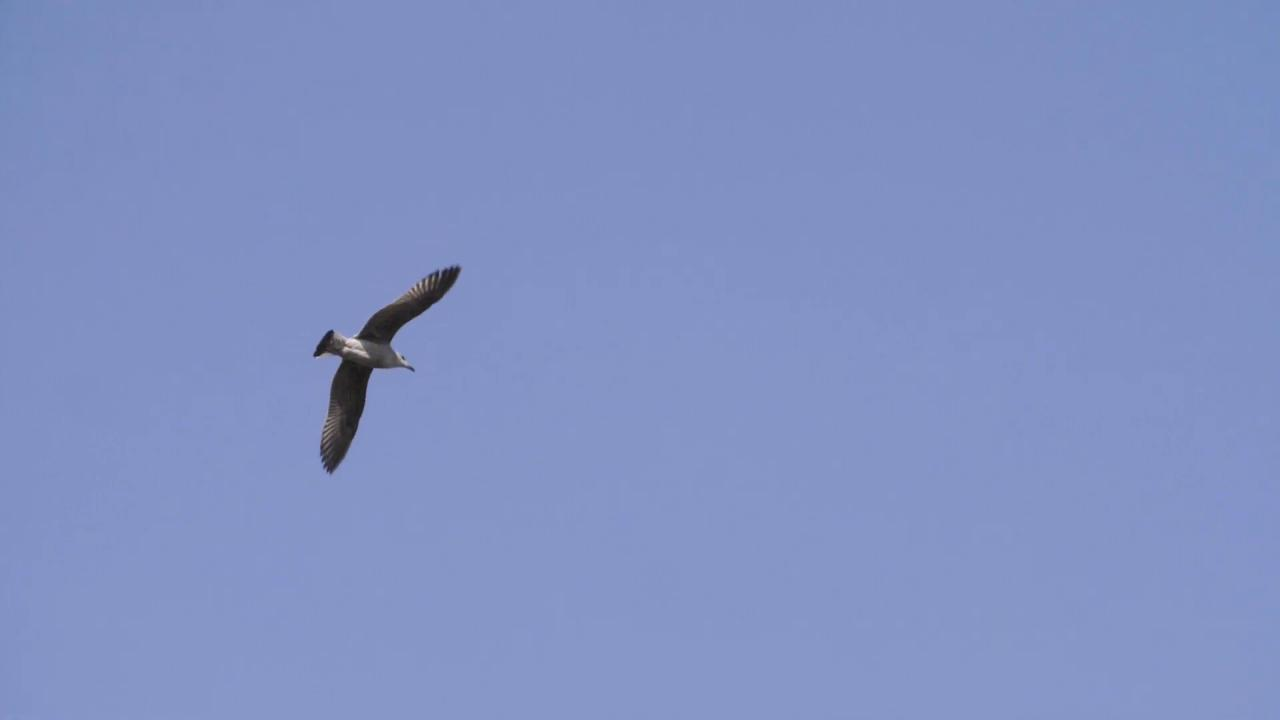Bird: (298, 250, 477, 483)
